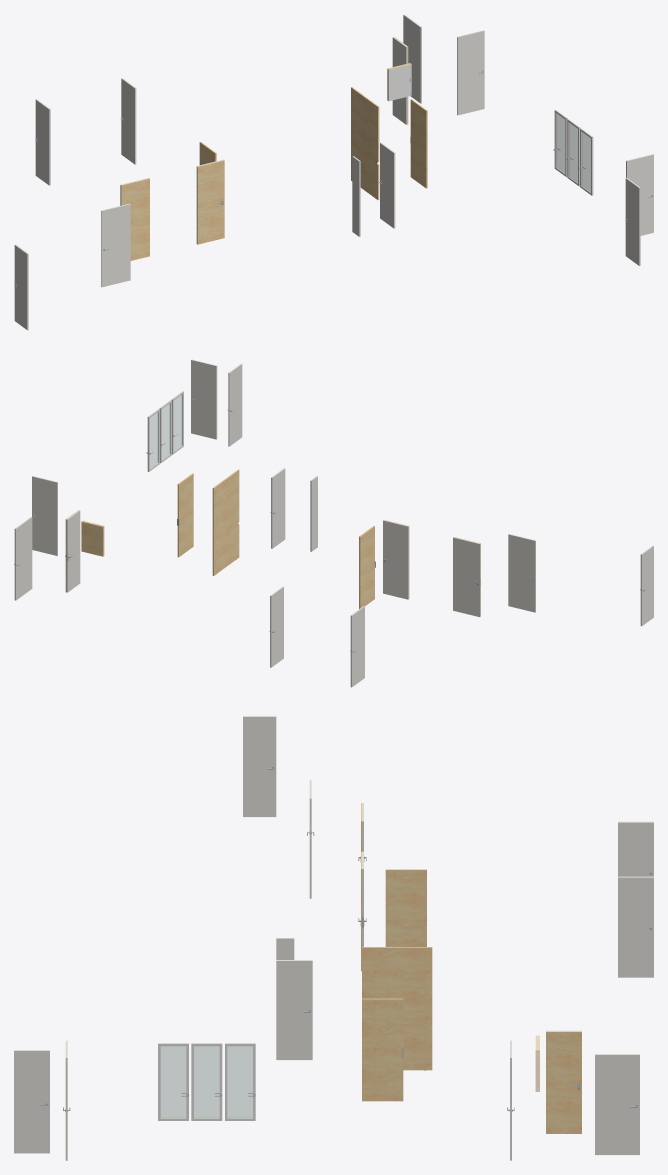
Rendered from tueren.glb.
The picture shows the model from 3 angles, top to bottom: view 1: azimuth 30°, elevation 25°; view 2: azimuth 150°, elevation 25°; view 3: azimuth 270°, elevation 25°; orthographic projection. The views are drawn at different scales.
Visible parts, largest first — view 1: tuer|90|0 (×5), tuer|0|-90|zu (×3), tuer|0|90 (×3), schiebe|0|-1320, tuer|90|0|zu (×3), tuer|0|-90 (×2), tuer|-90|0, falt|3|-1|678|3|1000|5|5; view 2: tuer|90|0 (×5), tuer|0|-90|zu (×4), tuer|0|90 (×3), schiebe|0|-1320, tuer|90|0|zu (×3), tuer|-90|0, tuer|0|-90 (×2), falt|0|-1|678|3|1000|11|68; view 3: tuer|0|-90|zu (×3), tuer|0|90 (×3), tuer|90|0 (×2), tuer|90|0|zu (×3), schiebe|0|-1320, tuer|0|-90.
Boxes of the visible parts, box(x1,y1,x2,y2) form: tuer|90|0 (×5): box(196, 30, 653, 265); tuer|0|-90|zu (×3): box(14, 99, 427, 330); tuer|0|90 (×3): box(35, 14, 421, 228); schiebe|0|-1320: box(351, 87, 379, 199); tuer|90|0|zu (×3): box(553, 109, 593, 195); tuer|0|-90 (×2): box(120, 78, 360, 236); tuer|-90|0: box(120, 178, 149, 260); falt|3|-1|678|3|1000|5|5: box(388, 64, 411, 101); tuer|90|0 (×5): box(32, 359, 409, 599); tuer|0|-90|zu (×4): box(177, 473, 653, 626); tuer|0|90 (×3): box(14, 468, 364, 687); schiebe|0|-1320: box(212, 469, 239, 575); tuer|90|0|zu (×3): box(146, 391, 183, 471); tuer|-90|0: box(453, 537, 480, 617); tuer|0|-90 (×2): box(269, 476, 317, 667); falt|0|-1|678|3|1000|11|68: box(81, 521, 103, 556); tuer|0|-90|zu (×3): box(243, 716, 426, 1101); tuer|0|90 (×3): box(276, 821, 653, 1155); tuer|90|0 (×2): box(14, 1030, 581, 1153); tuer|90|0|zu (×3): box(158, 1043, 255, 1120); schiebe|0|-1320: box(362, 947, 432, 1070); tuer|0|-90: box(618, 876, 653, 977).
Size of the model in its own units: 16.55 by 2.65 by 12.45.
Materials: 3 (1 with a texture image).
